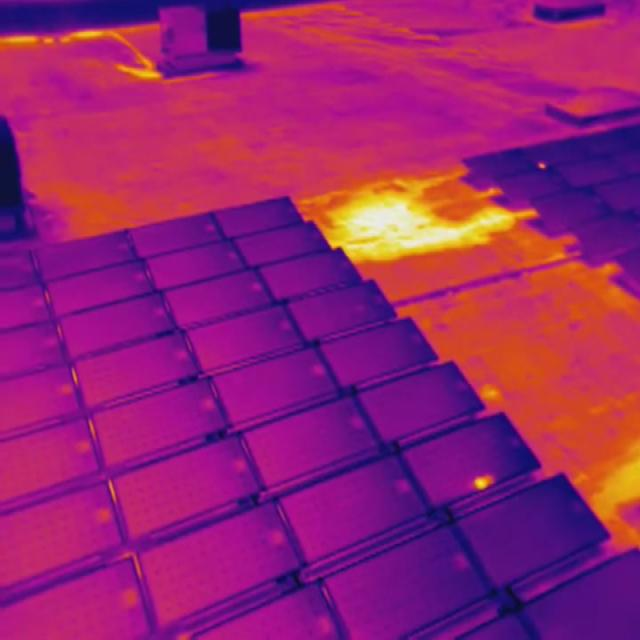Orange-Spots: (473, 473, 497, 490), (538, 162, 547, 170)
